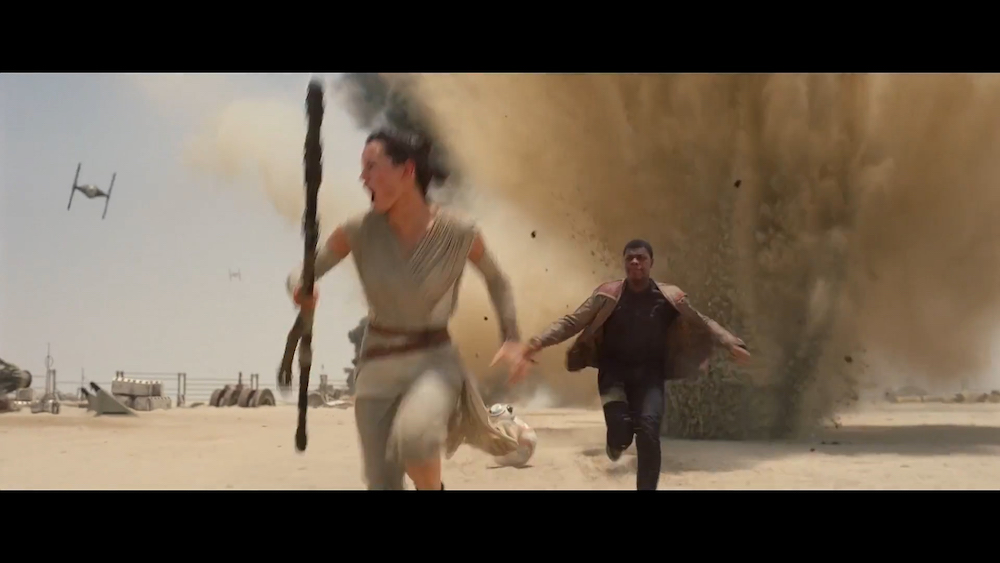Tie Fighter: (67, 163, 120, 223), (229, 270, 242, 282)
